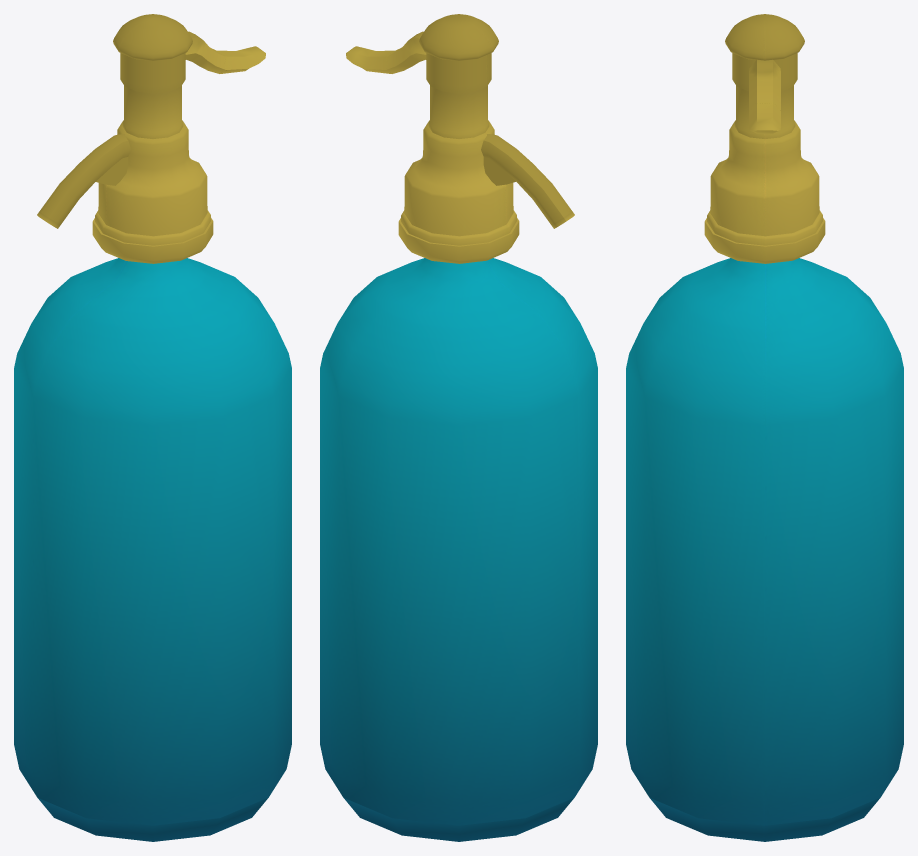
File: Butelka3.gltf
3 renders of one model, left to right at view 1: azimuth 30°, elevation 25°; view 2: azimuth 150°, elevation 25°; view 3: azimuth 270°, elevation 25°, orthographic.
Visible parts, largest first — view 1: Butelka3; view 2: Butelka3; view 3: Butelka3.
Boxes of the visible parts, left/top/right/bottom form: Butelka3: left=14, top=14, right=291, bottom=841; Butelka3: left=320, top=14, right=597, bottom=841; Butelka3: left=626, top=14, right=903, bottom=841.
Size of the model in its own units: 1.62 by 4.97 by 1.62.
Materials: 2 (2 with a texture image).
